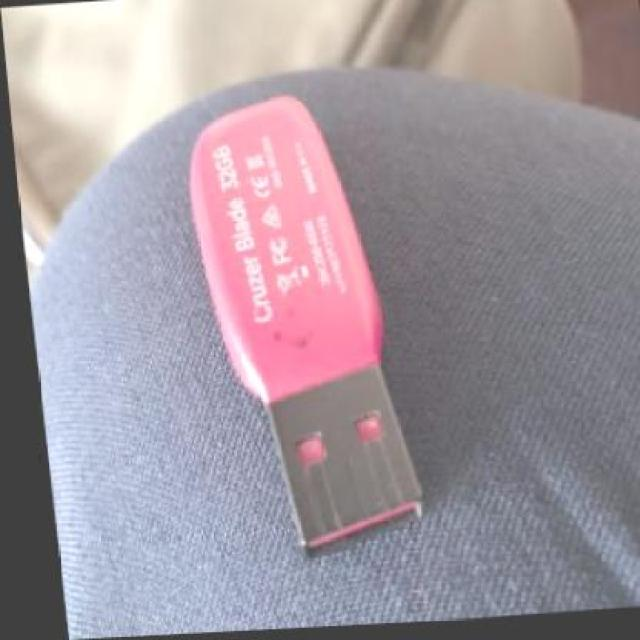Flashdisk: (172, 72, 428, 570)
